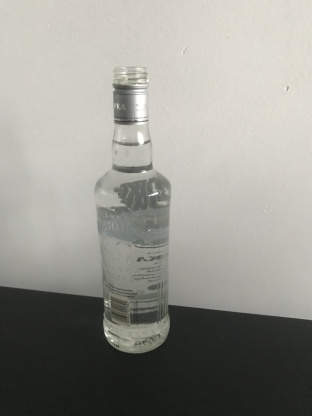nakretka: (110, 63, 151, 126)
